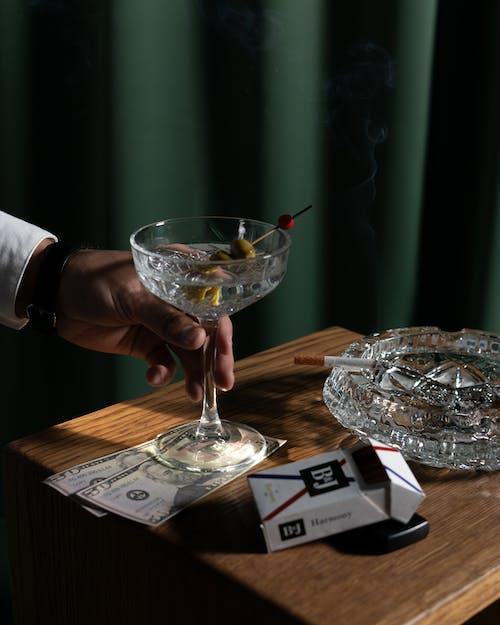alcohol: (131, 210, 293, 480)
cigarette: (244, 435, 428, 557), (287, 354, 395, 370)
